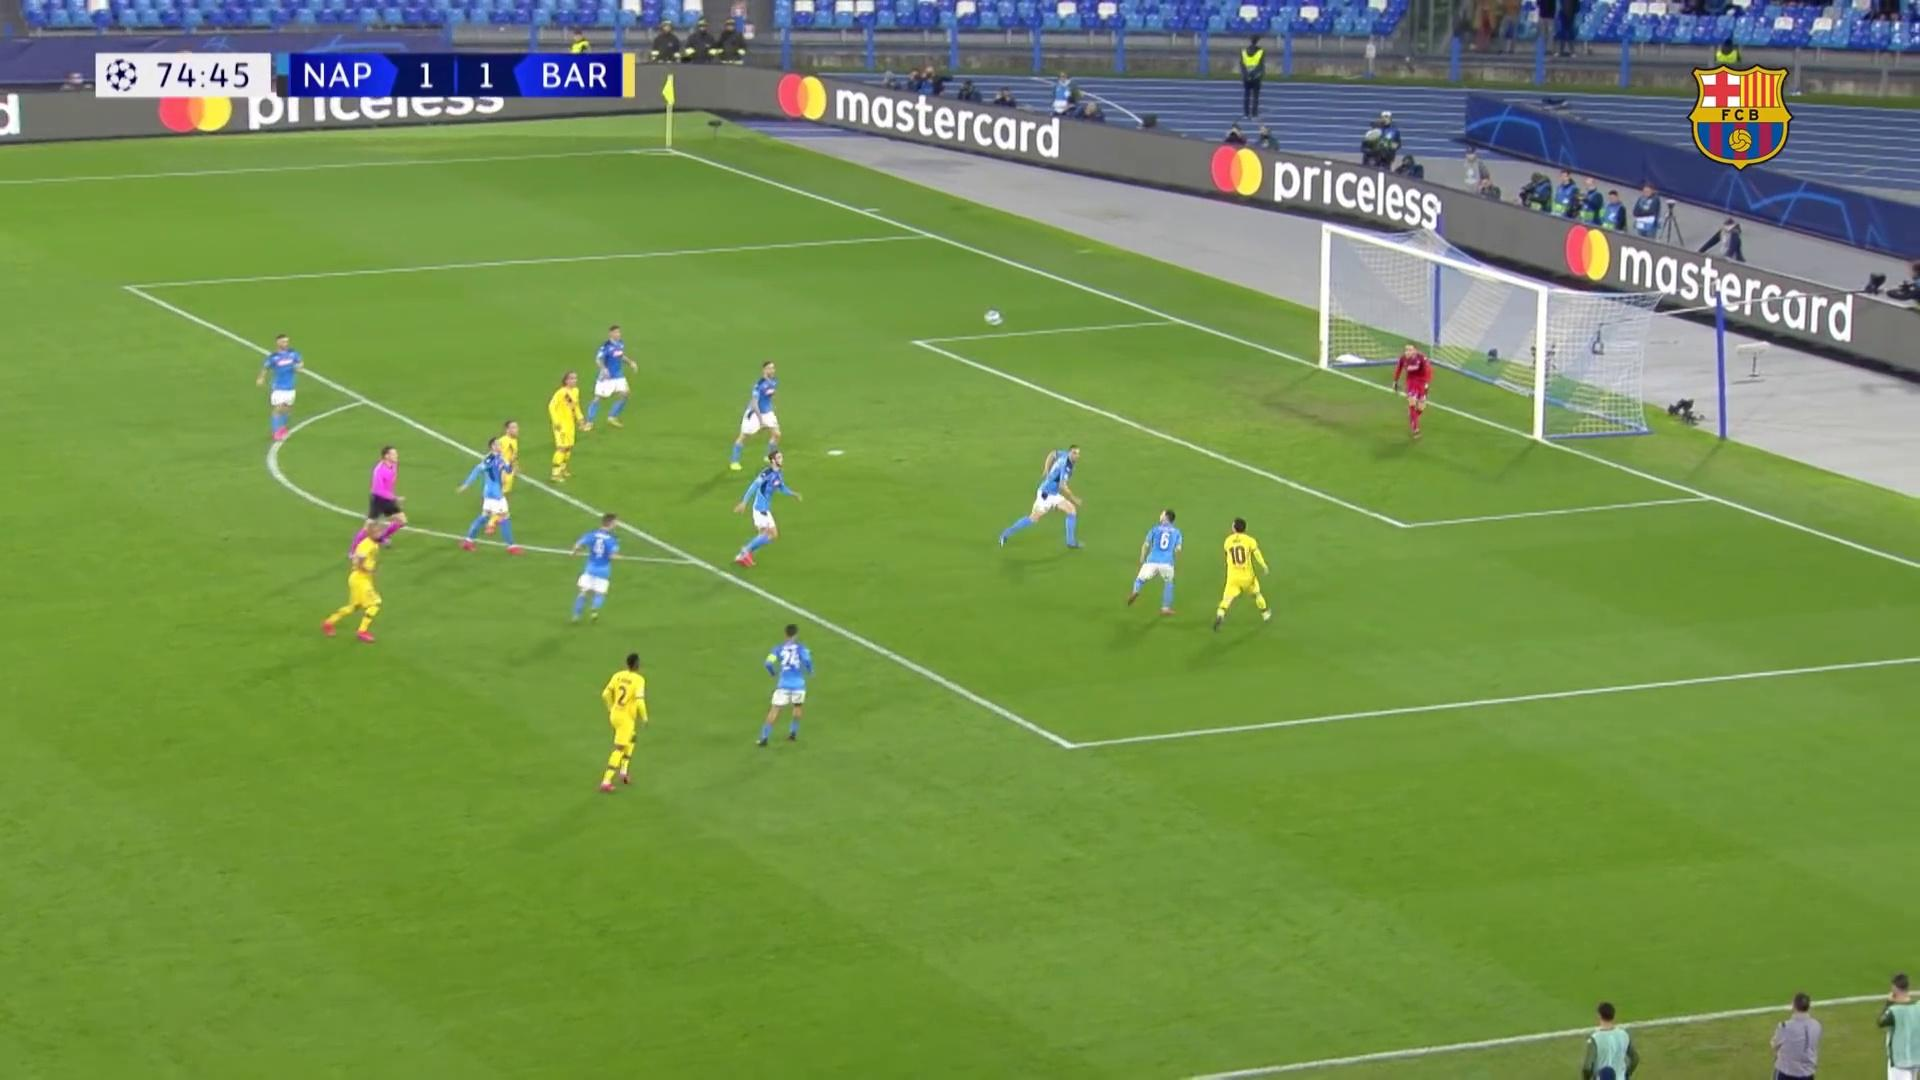ball: (980, 306, 1007, 330)
goalkeeper: (1388, 338, 1440, 442)
player: (998, 439, 1094, 556), (750, 619, 822, 754), (326, 517, 394, 647), (460, 429, 529, 557), (1208, 516, 1277, 636), (730, 455, 801, 571), (601, 649, 655, 797), (1123, 508, 1191, 622), (722, 361, 790, 474), (567, 515, 629, 632), (587, 323, 643, 433), (255, 331, 307, 447), (547, 368, 588, 486)
referee: (356, 438, 416, 556)
